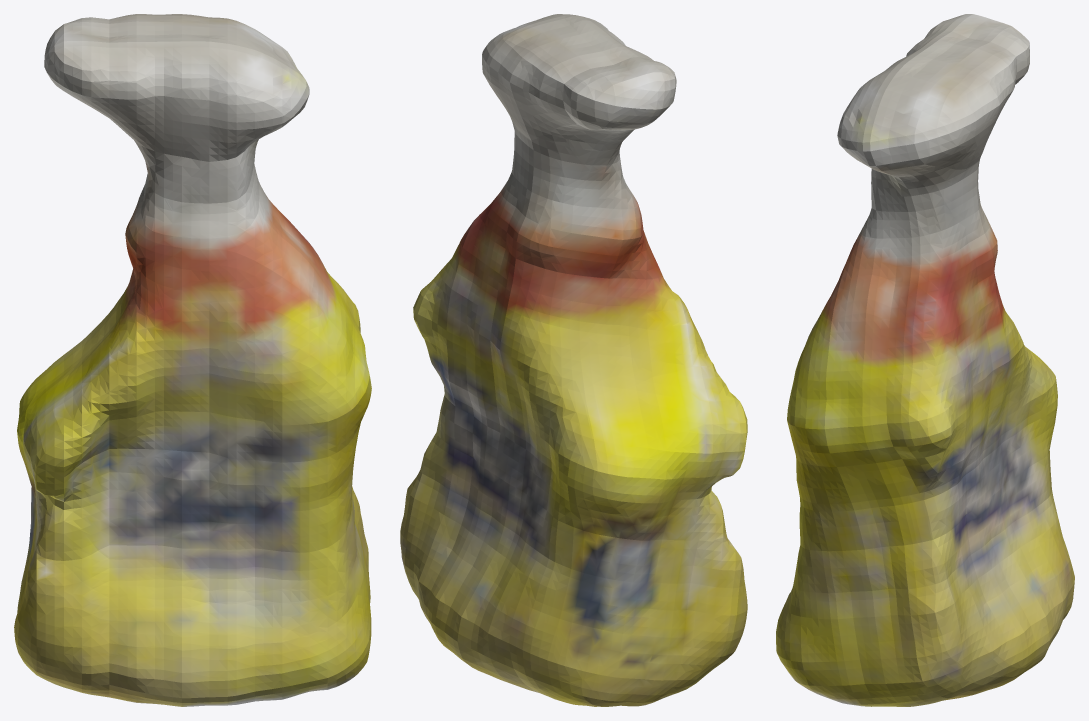
3 renders of one model, left to right at view 1: azimuth 30°, elevation 25°; view 2: azimuth 150°, elevation 25°; view 3: azimuth 270°, elevation 25°, orthographic. The views are drawn at different scales.
Visible parts, largest first — view 1: mesh.ply; view 2: mesh.ply; view 3: mesh.ply.
Boxes of the visible parts, bbox=[...] form: mesh.ply: bbox=[14, 14, 371, 706]; mesh.ply: bbox=[400, 14, 747, 706]; mesh.ply: bbox=[776, 14, 1074, 706].
Size of the model in its own units: 0.4563 by 0.8216 by 0.368.
